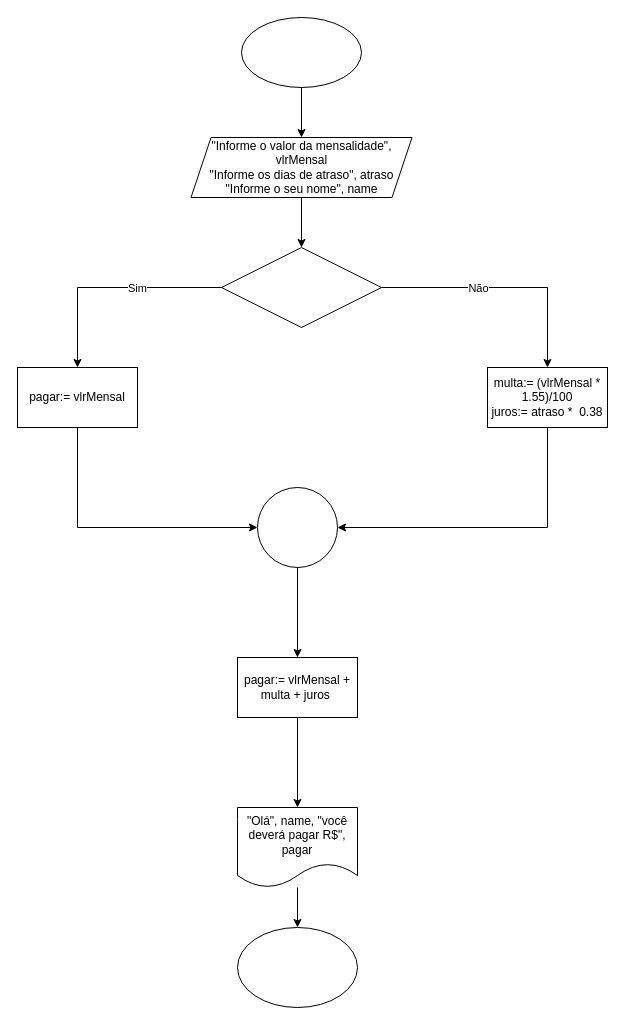
This 625x1025 diagram has some shape labels left out. The shapes that lost their labels are listed below. From the top down, each one's centre as x and y in pixels, then its label:
the point at 301,52: Inicio
the point at 301,287: se atraso < 1 entao
the point at 297,967: Fim
